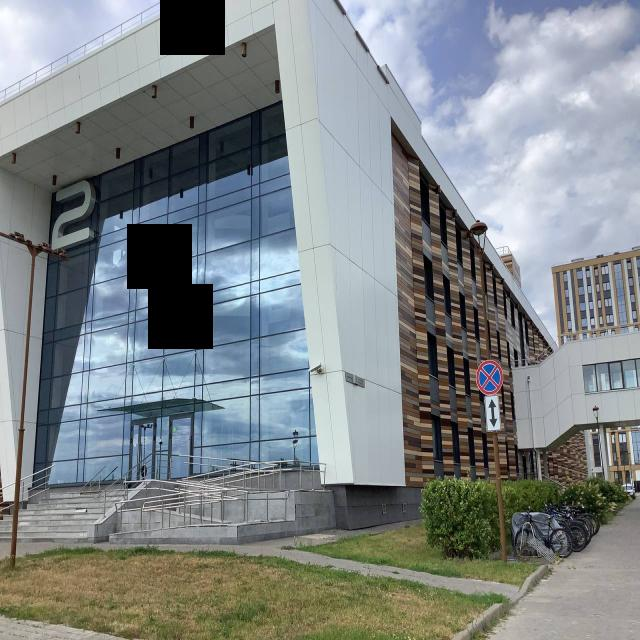Building: (0, 0, 593, 546)
